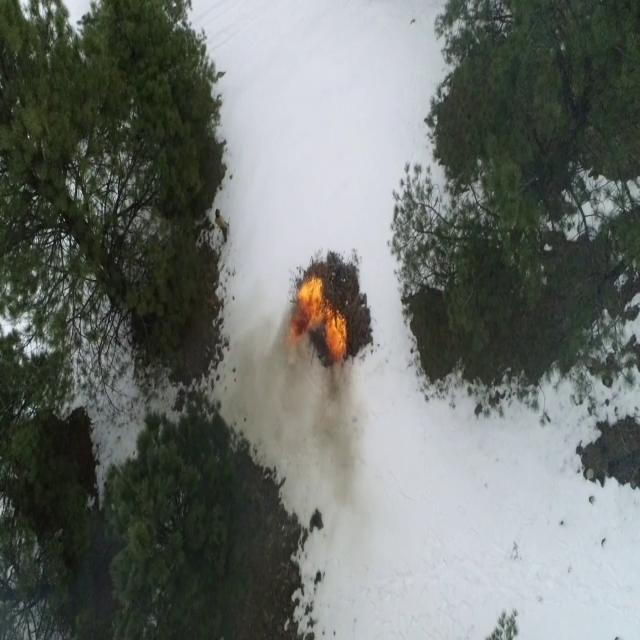fire: (292, 275, 348, 360)
